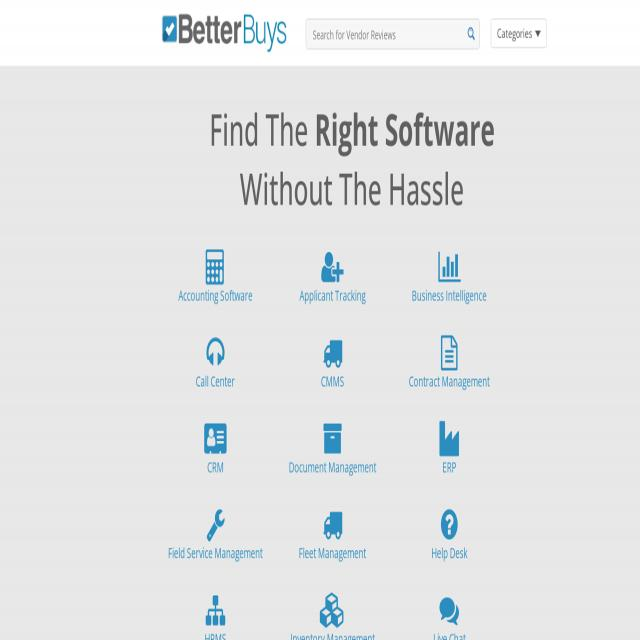button: (163, 233, 270, 331), (280, 233, 387, 324), (157, 0, 299, 66), (397, 235, 498, 322), (276, 415, 388, 490), (164, 414, 268, 492), (164, 335, 270, 409), (280, 333, 387, 405), (277, 500, 384, 572), (396, 498, 497, 574), (396, 329, 496, 404), (164, 502, 270, 572), (396, 417, 496, 488), (395, 581, 496, 640), (278, 582, 379, 640), (168, 582, 262, 640), (491, 18, 546, 48), (466, 24, 476, 44)
field: (306, 20, 480, 49)
